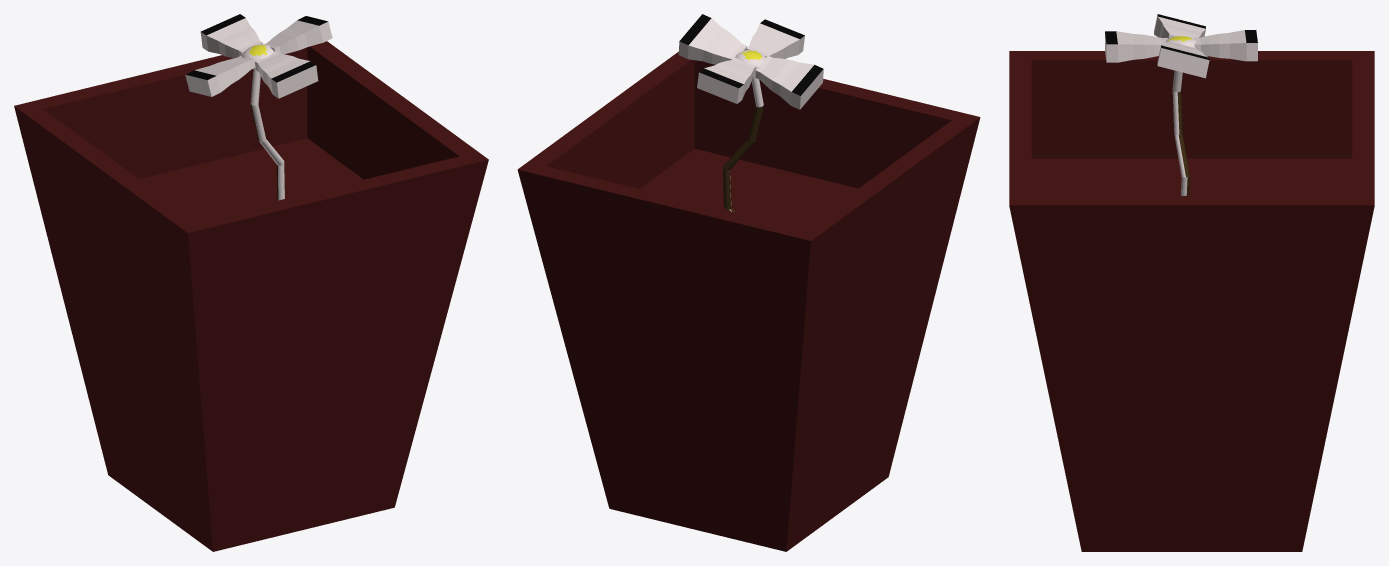
The model's file is vase_pp.fbx.
3 renders of one model, left to right at view 1: azimuth 30°, elevation 25°; view 2: azimuth 150°, elevation 25°; view 3: azimuth 270°, elevation 25°, orthographic. The views are drawn at different scales.
Parts seen in each view (by area): view 1: Cube, Cylinder; view 2: Cube, Cylinder; view 3: Cube, Cylinder.
Boxes of the visible parts, x1,y1,x2,y2 form: Cube: [14, 41, 488, 551]; Cylinder: [185, 14, 332, 200]; Cube: [517, 51, 980, 551]; Cylinder: [678, 14, 823, 212]; Cube: [1009, 51, 1374, 551]; Cylinder: [1105, 14, 1257, 195].
Size of the model in its own units: 332 by 490 by 332.
